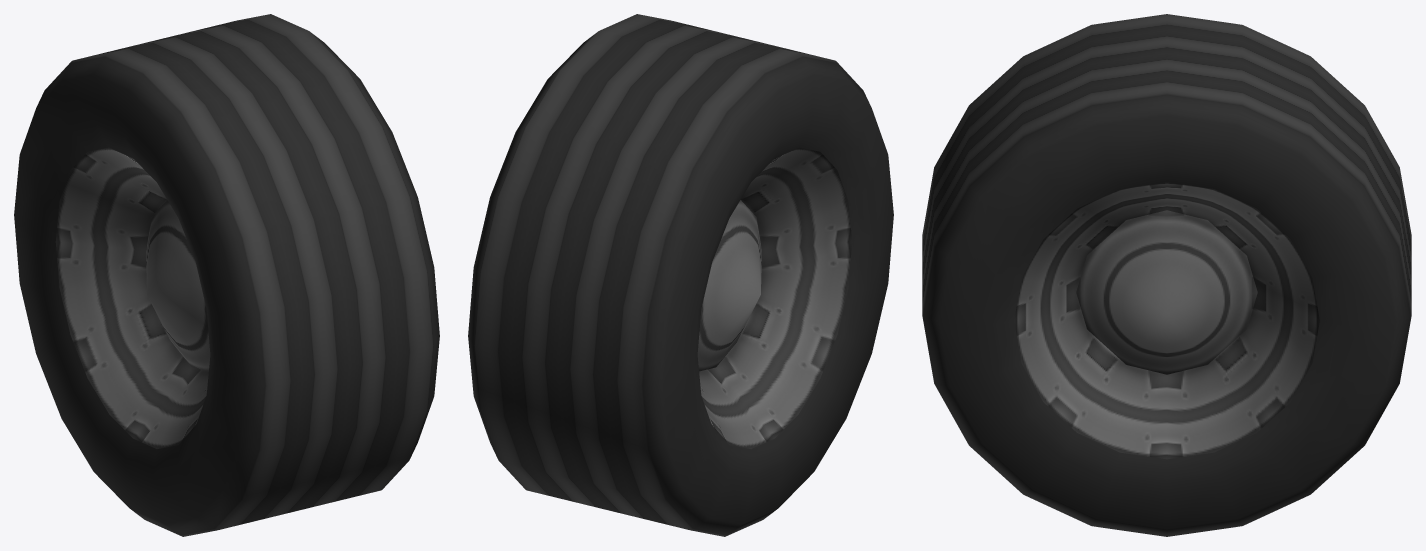
The model's file is Tire_1.fbx.
3 views of the same model, side by side, from view 1: azimuth 30°, elevation 25°; view 2: azimuth 150°, elevation 25°; view 3: azimuth 270°, elevation 25° (orthographic).
Visible parts, largest first — view 1: pCylinder19; view 2: pCylinder19; view 3: pCylinder19.
Boxes of the visible parts, bbox=[...] form: pCylinder19: bbox=[14, 14, 439, 536]; pCylinder19: bbox=[468, 14, 893, 536]; pCylinder19: bbox=[922, 14, 1411, 536].
Size of the model in its own units: 0.1011 by 0.2114 by 0.2114.
